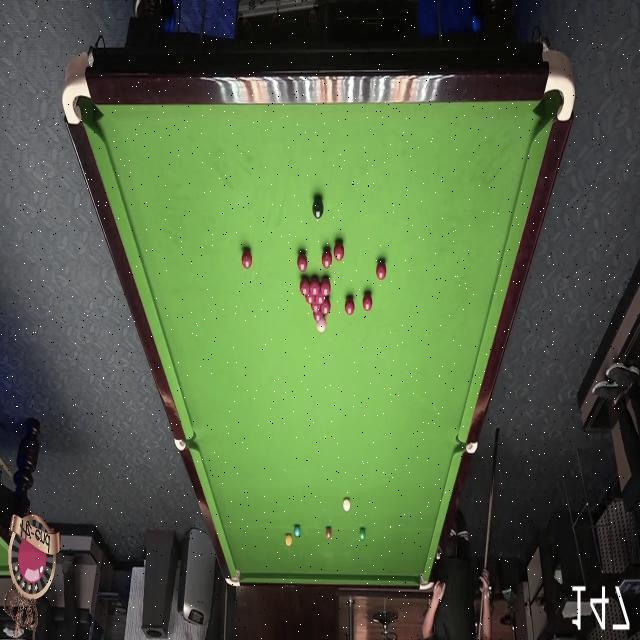Ball: (375, 257, 387, 280), (333, 239, 345, 261), (313, 198, 324, 220), (242, 250, 253, 270), (322, 249, 332, 269), (345, 296, 355, 316), (298, 253, 308, 271), (321, 279, 331, 297), (300, 279, 310, 296), (310, 279, 320, 296), (316, 316, 326, 333), (363, 296, 373, 312), (313, 308, 323, 324), (305, 290, 315, 305), (321, 301, 331, 316), (316, 290, 326, 304), (311, 301, 321, 313), (343, 499, 351, 513), (359, 528, 367, 539), (286, 534, 292, 546), (326, 528, 332, 540), (294, 526, 300, 537)
